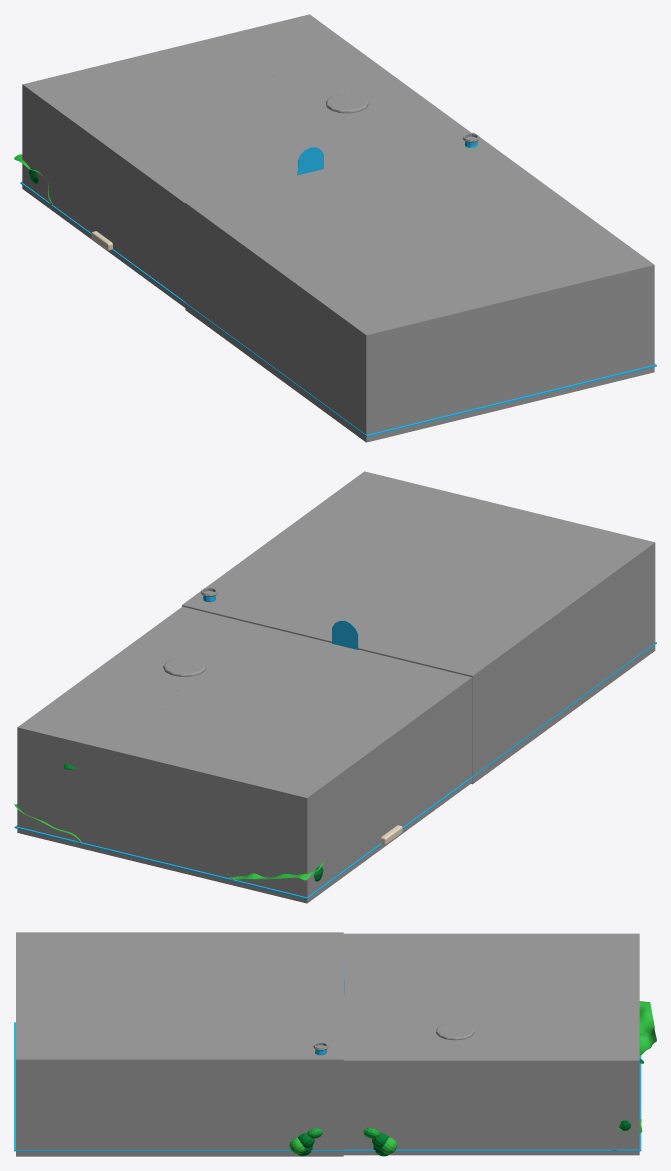
The model's file is SceneRecuperation_Draco.glb.
3 views of the same model, one above another, from view 1: azimuth 30°, elevation 25°; view 2: azimuth 150°, elevation 25°; view 3: azimuth 270°, elevation 25° (orthographic). The views are drawn at different scales.
Visible parts, largest first — view 1: room2, room1, Polygone, shower; view 2: room1, room2, Polygone, shower, porte; view 3: room2, room1, Polygone, Plan, shower.
Boxes of the visible parts, x1,y1,x2,y2 form: room2: (185,132,654,442); room1: (22,14,471,307); Polygone: (20,182,656,436); shower: (326,93,368,113); room1: (17,606,472,903); room2: (182,471,655,784); Polygone: (14,642,656,899); shower: (163,657,206,676); porte: (331,620,358,649); room2: (16,932,343,1156); room1: (343,933,639,1155); Polygone: (14,1022,641,1151); Plan: (639,1001,656,1055); shower: (436,1022,474,1040).
Size of the model in its own units: 10.14 by 4.61 by 20.78.
